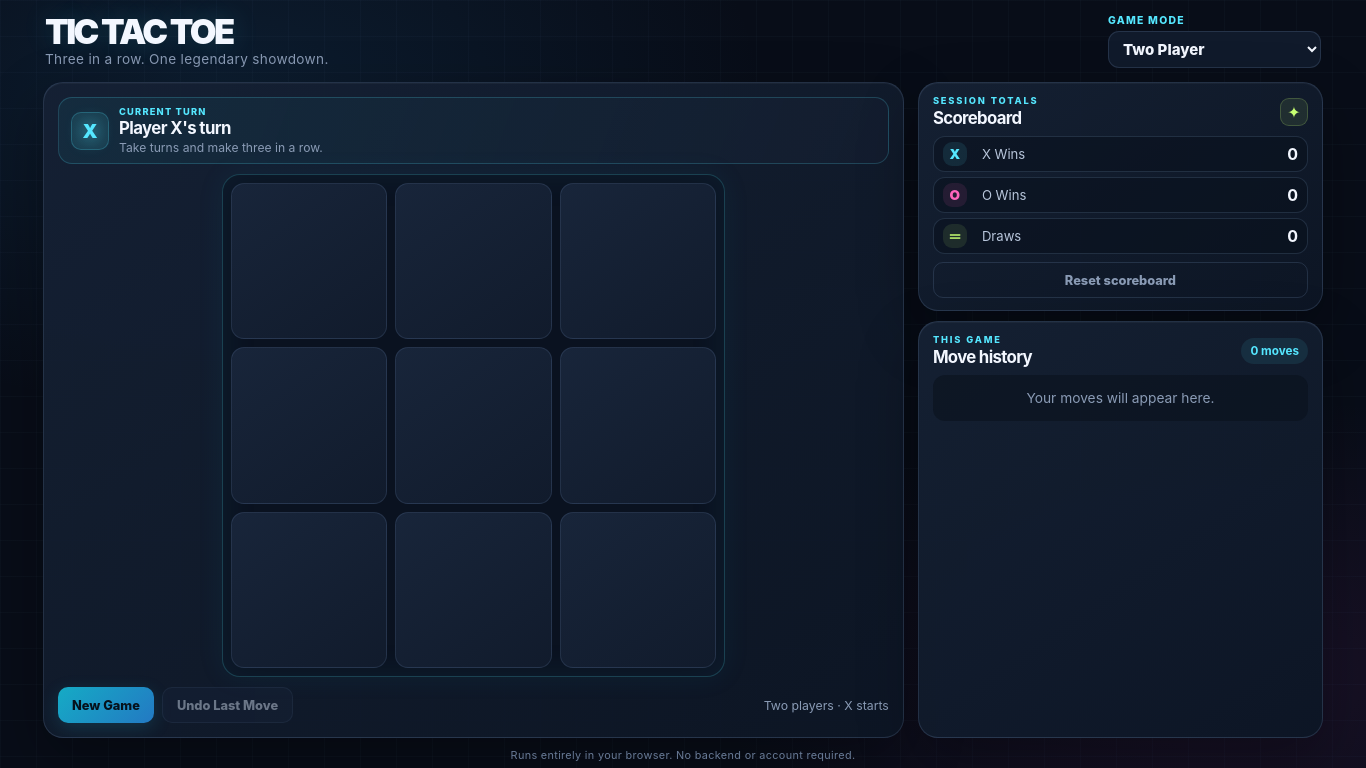
makes two-player moves, alternates turns, and records history
Click the button named "row 1, column 1, empty".
click(309, 261)  # box [231,183,387,339]
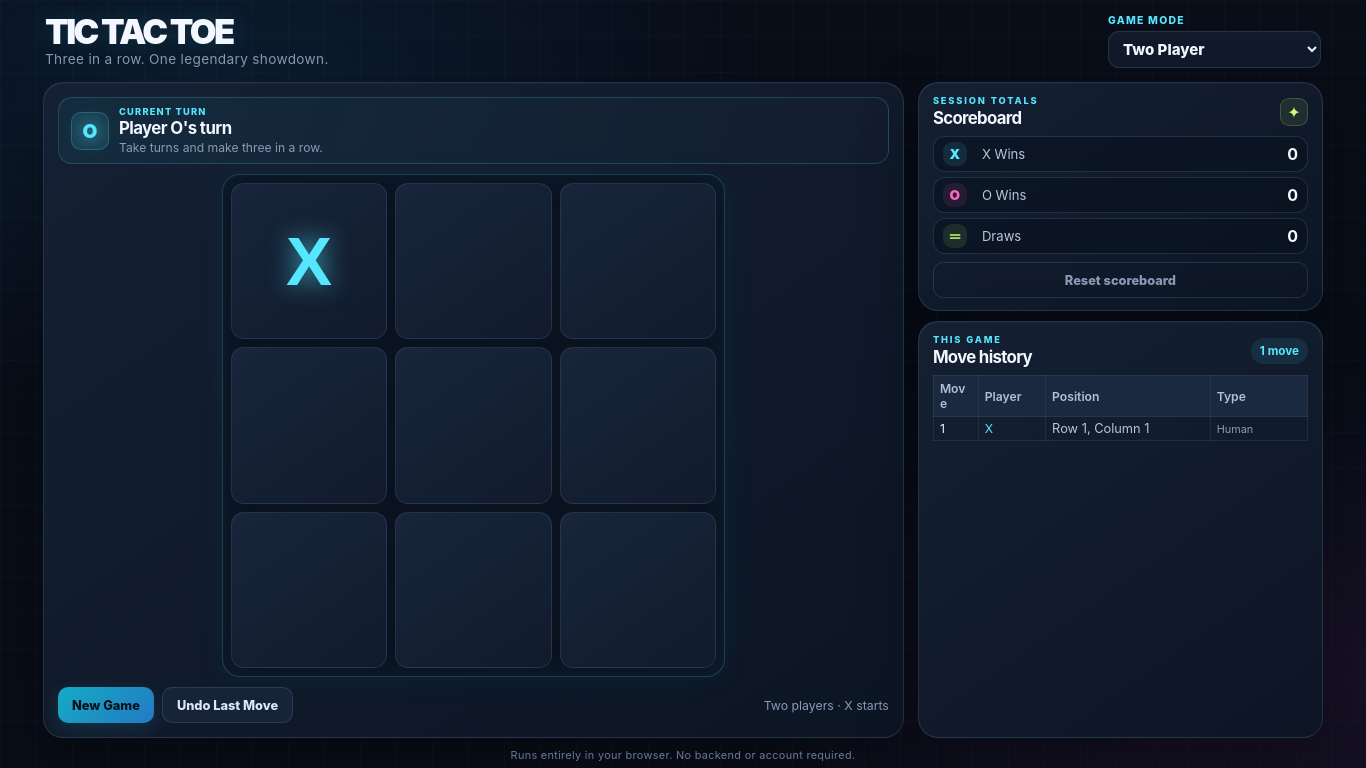
Now the heading "Player O's turn" is shown, box [119,118,232,138]
Now the button named "row 1, column 1, x" is disabled, box [231,183,387,339]
Now the text "Row 1, Column 1" is shown, box [1046,416,1210,440]
Click the button named "row 2, column 2, empty".
click(473, 425)  # box [395,347,552,504]
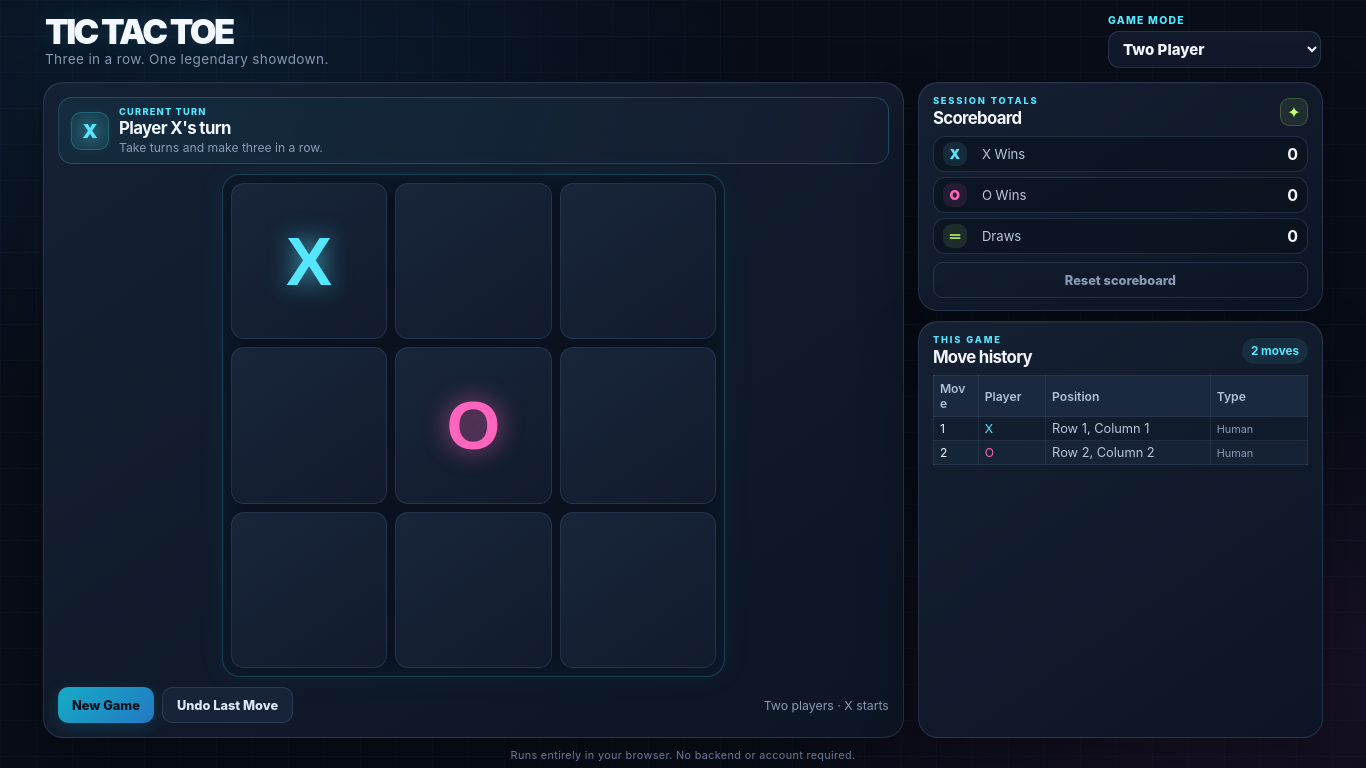
Now the heading "Player X's turn" is shown, box [119,118,231,138]
Now the text "2 moves" is shown, box [1242,338,1308,364]
